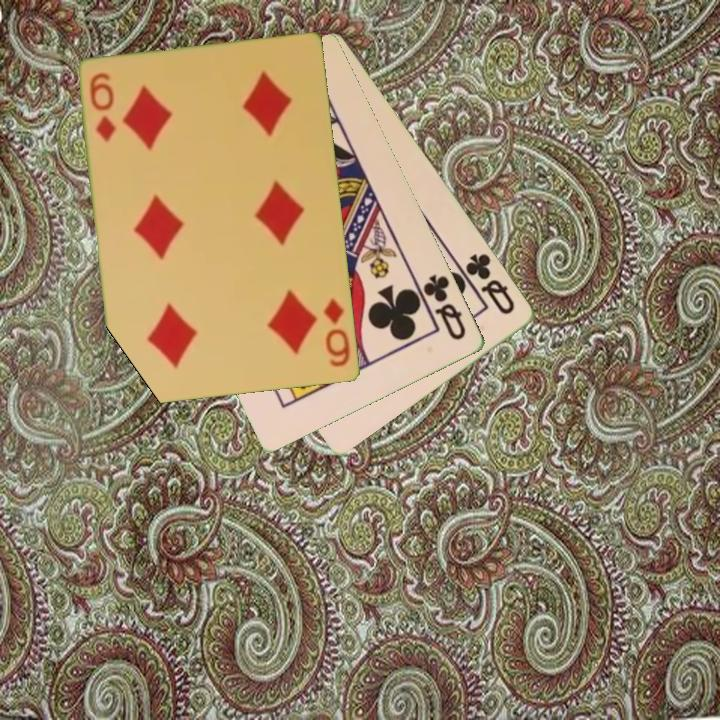6d: (86, 69, 120, 145), (321, 294, 354, 371)
Qc: (413, 270, 470, 344), (462, 250, 519, 318)
